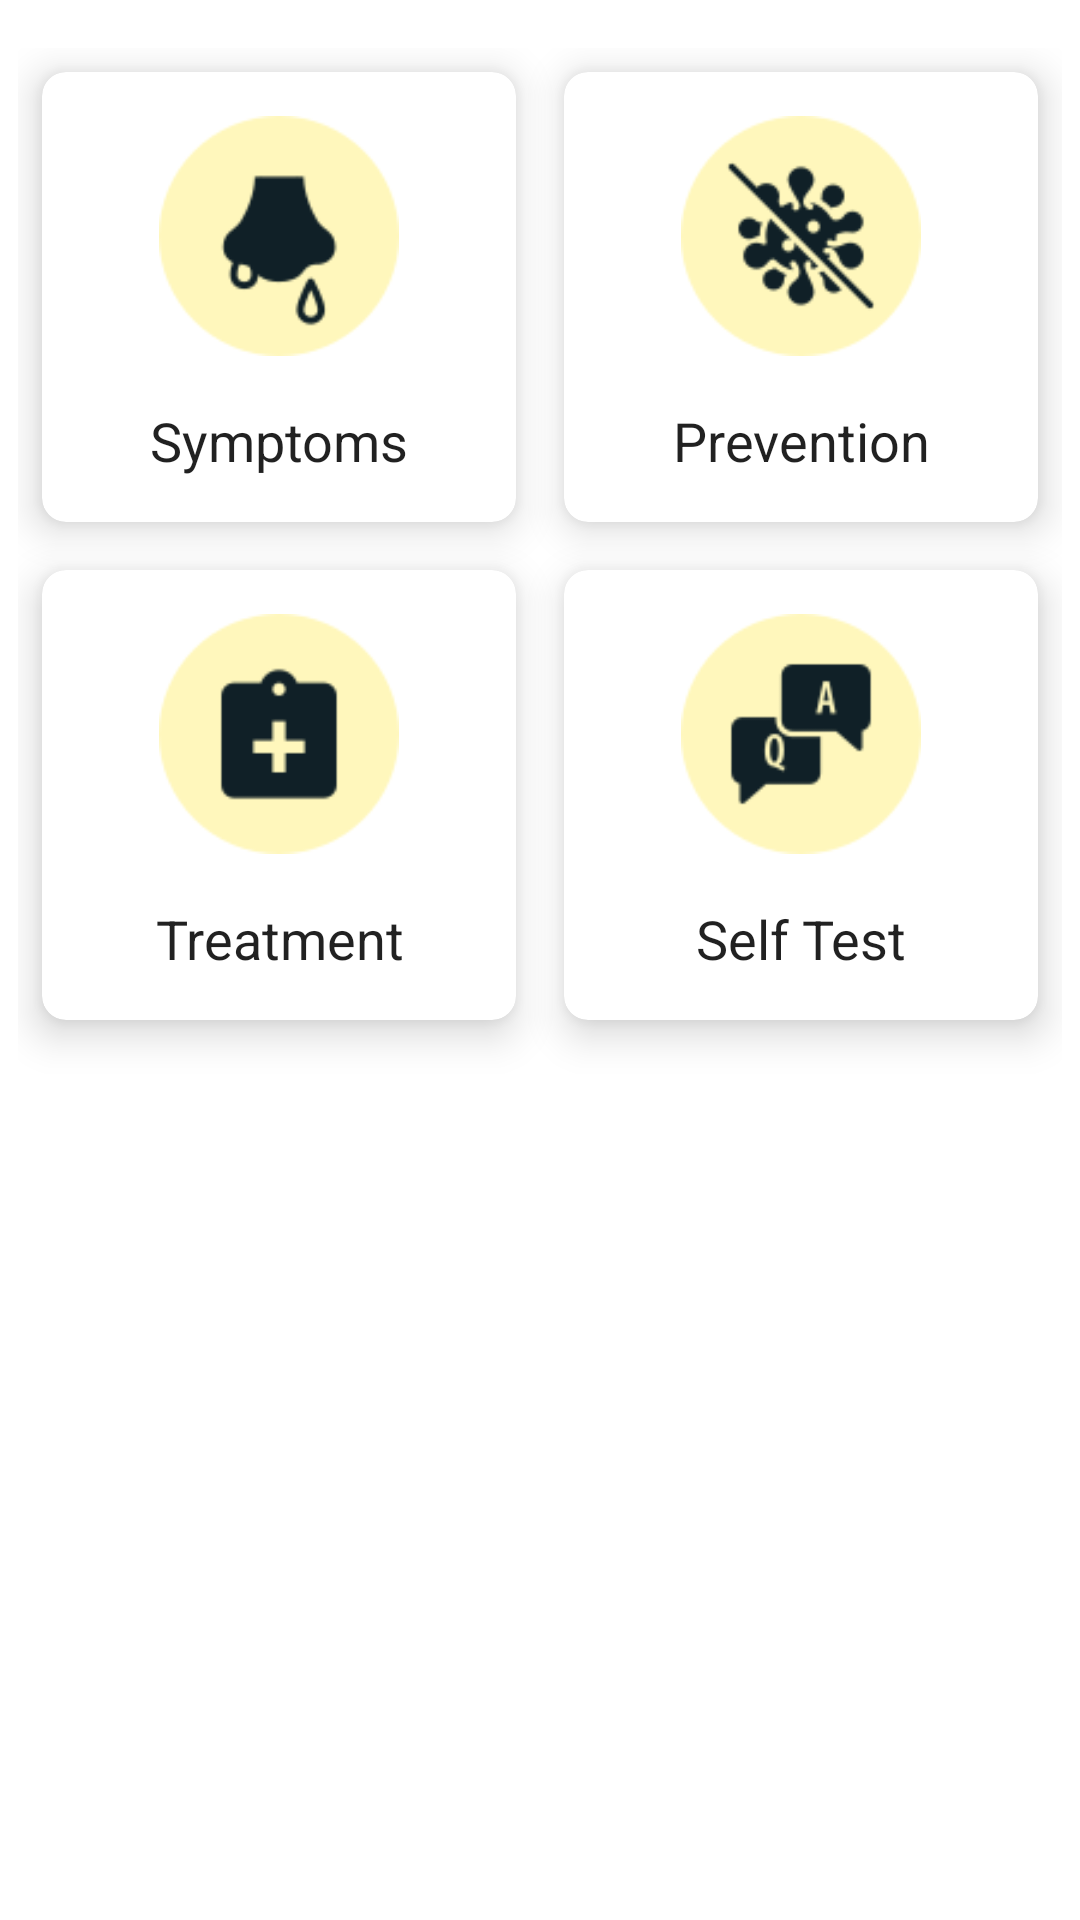

Screen size 1080x1920. Icon name, then its box in pixels as (x1, y1, x2, y2):
faq: (681, 614, 921, 854)
